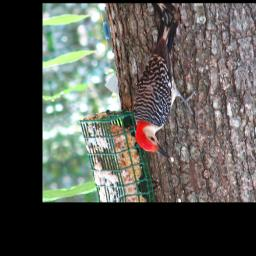Woodpecker: (116, 15, 210, 169)
